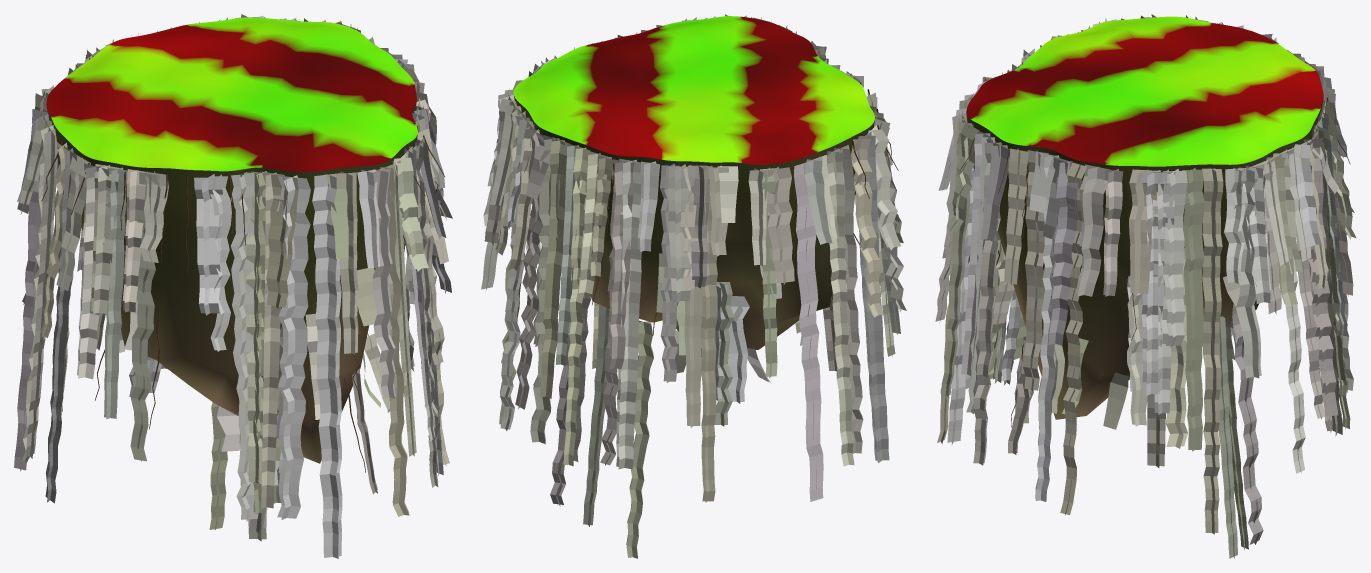
Rendered from SM_H15_Floater02.fbx.
3 renders of one model, left to right at view 1: azimuth 30°, elevation 25°; view 2: azimuth 150°, elevation 25°; view 3: azimuth 270°, elevation 25°, orthographic. The views are drawn at different scales.
Visible parts, largest first — view 1: SM_H15_Floater02_Ivy, SM_H15_Floater02; view 2: SM_H15_Floater02_Ivy, SM_H15_Floater02; view 3: SM_H15_Floater02_Ivy, SM_H15_Floater02.
Part boxes in pixels (bbox=[...]): SM_H15_Floater02_Ivy: bbox=[14, 14, 452, 558]; SM_H15_Floater02: bbox=[46, 17, 417, 463]; SM_H15_Floater02_Ivy: bbox=[481, 14, 906, 558]; SM_H15_Floater02: bbox=[513, 16, 874, 358]; SM_H15_Floater02_Ivy: bbox=[935, 14, 1356, 558]; SM_H15_Floater02: bbox=[966, 16, 1323, 419].
Size of the model in its own units: 32.09 by 38.2 by 32.25.
